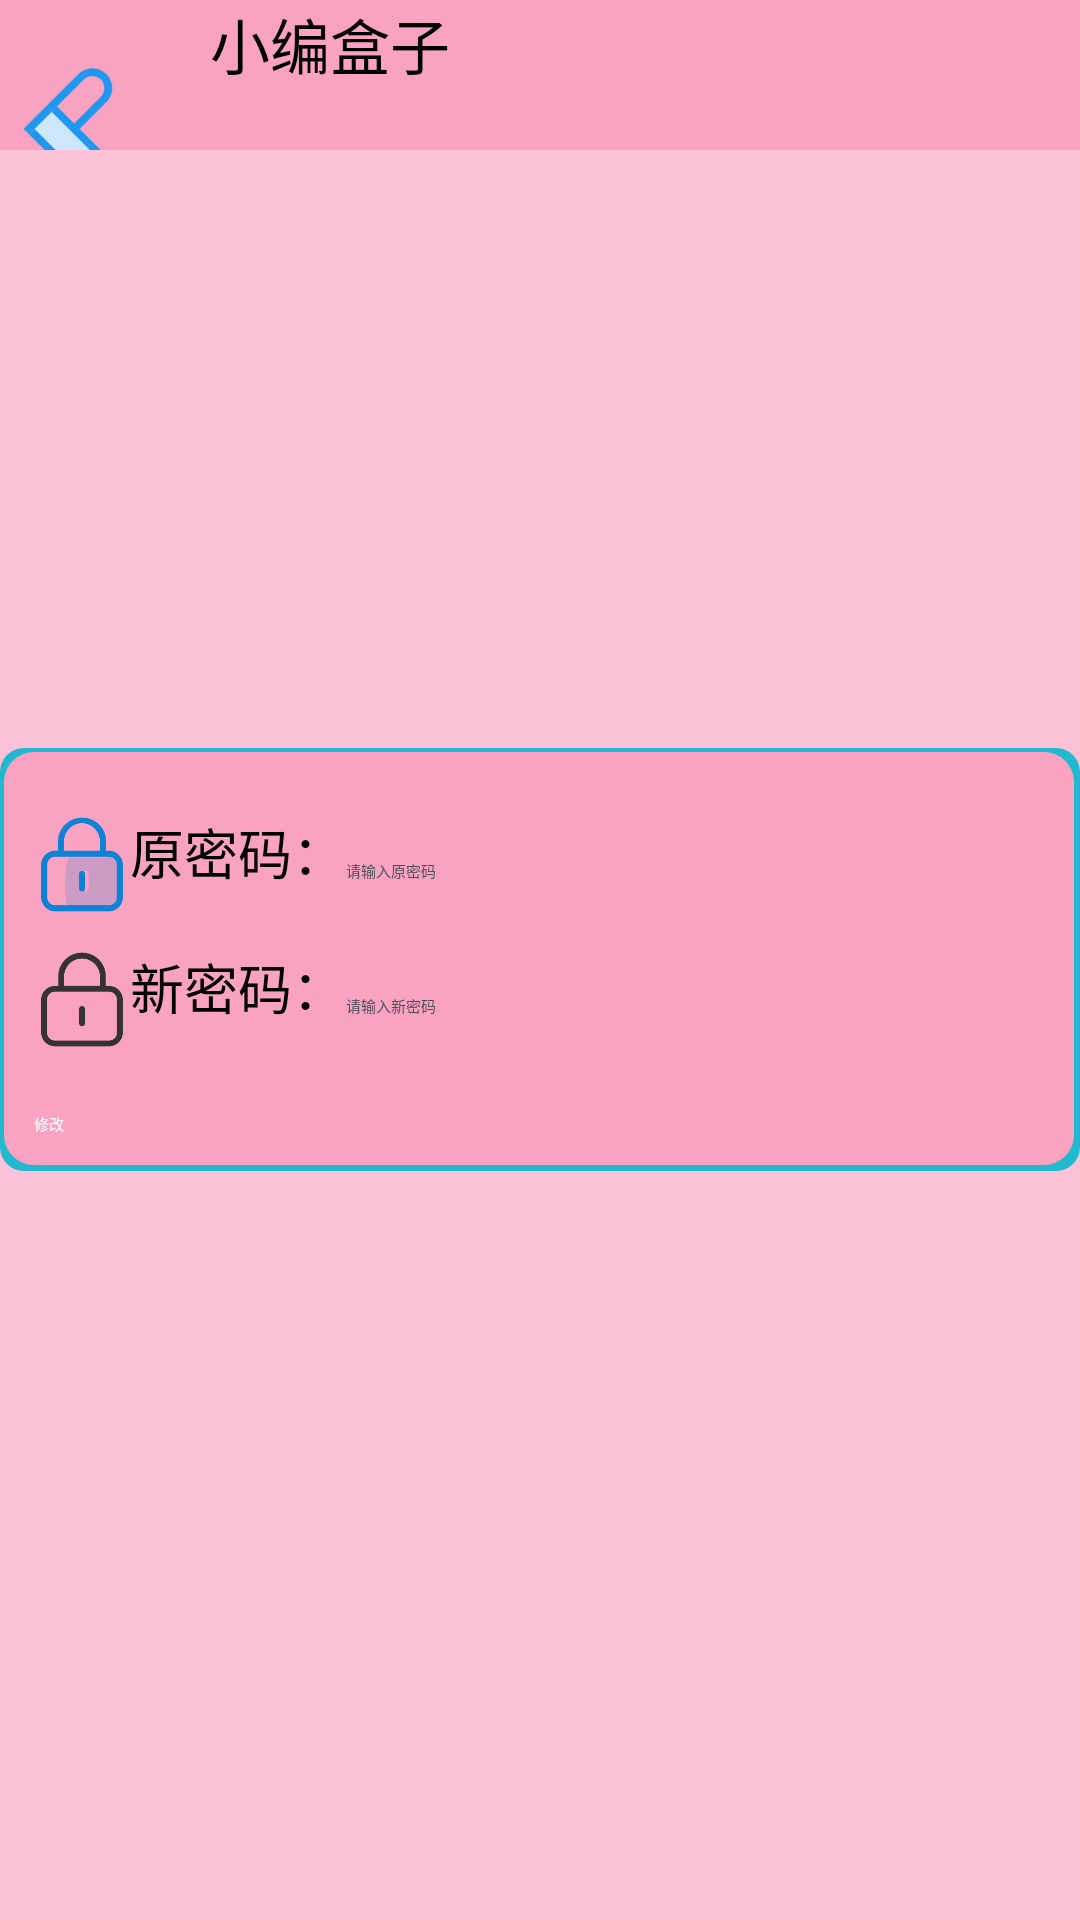

Icons on this 1080 x 1920 Android screen, each with its box as bbox=[x1, y1, x2, y2]:
mima: bbox=[41, 817, 123, 912], bbox=[41, 952, 123, 1047]
